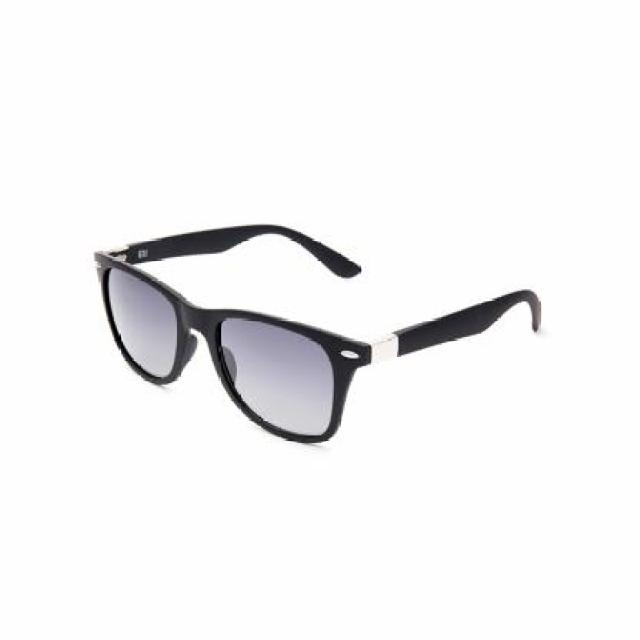gozluk: (80, 236, 362, 469)
